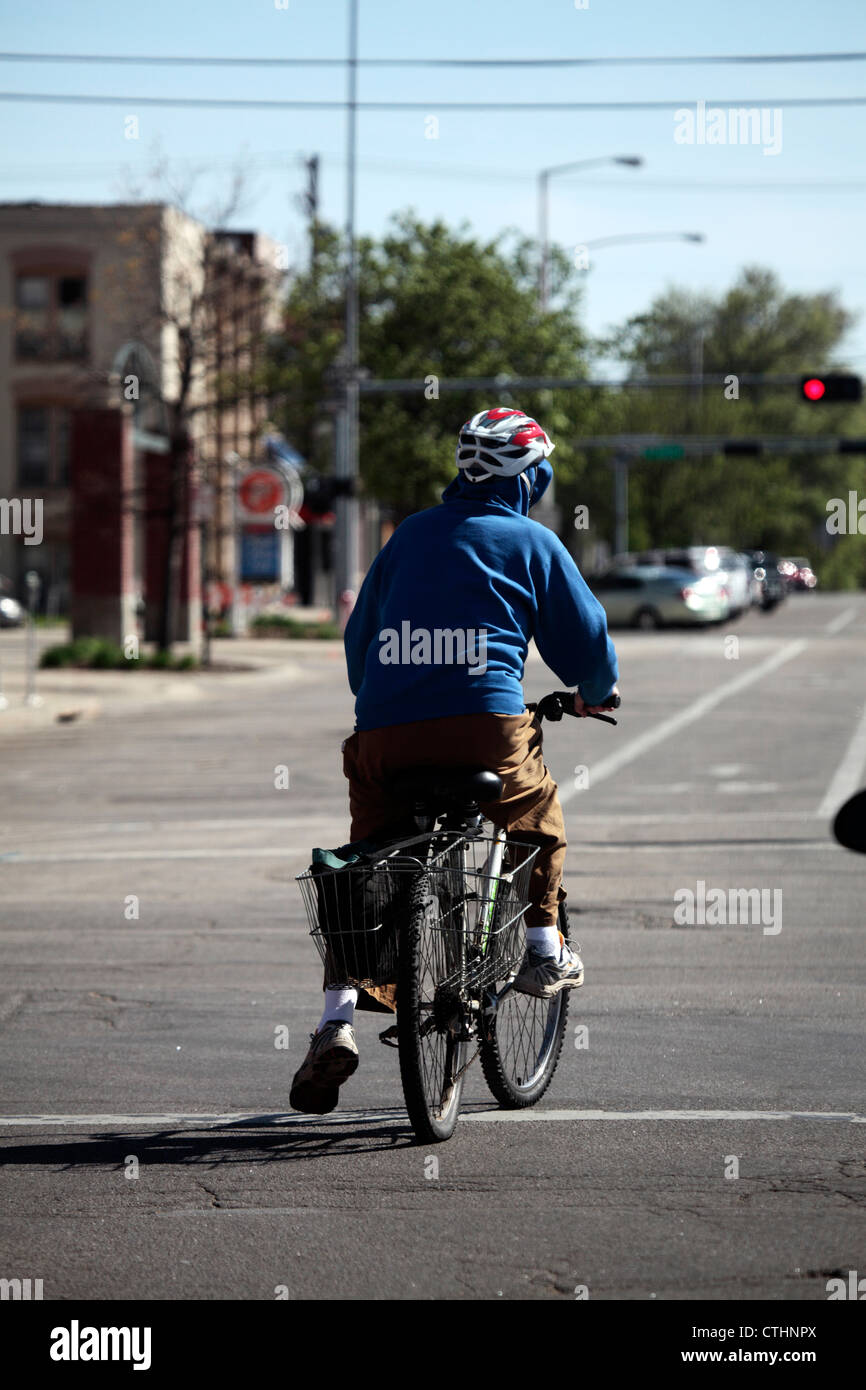helmet: (454, 406, 556, 509)
